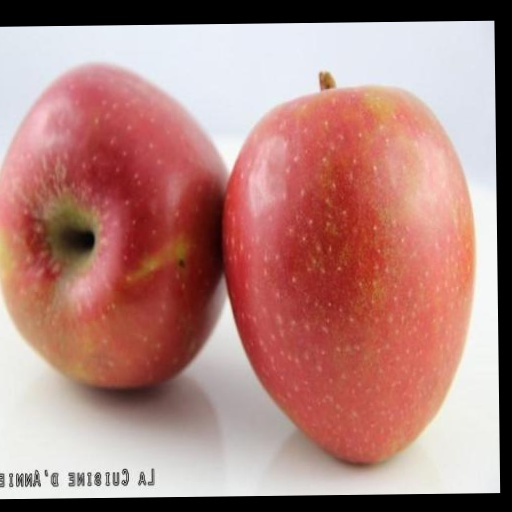fruit: (223, 74, 474, 462), (0, 65, 225, 387)
